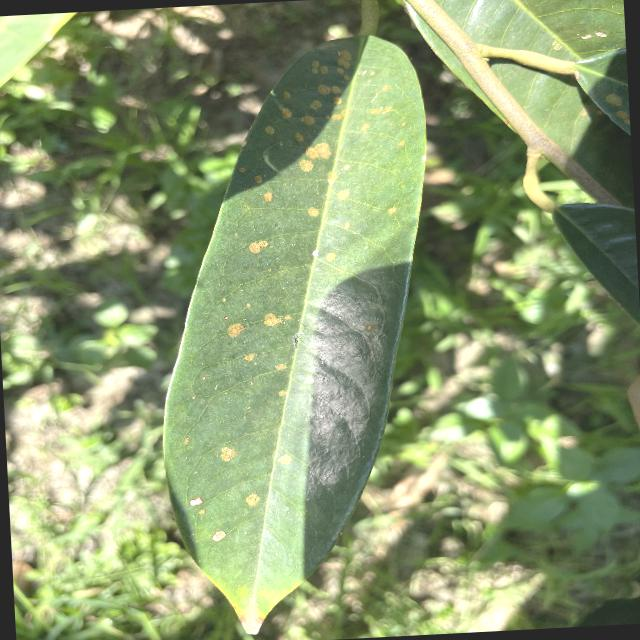Algal Leaf Spot: (130, 19, 461, 639)
